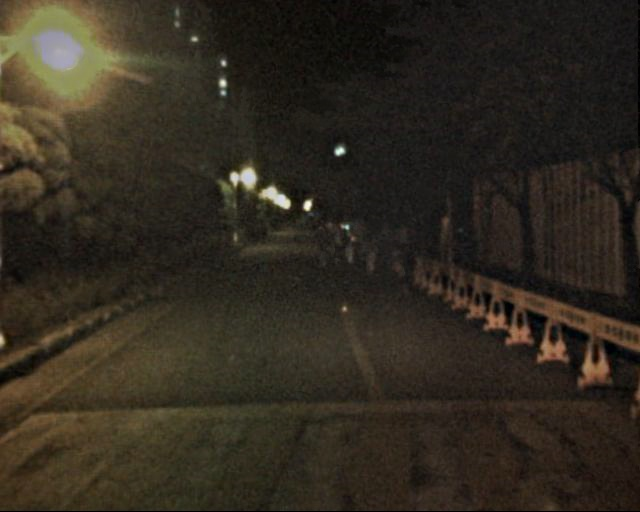person: (389, 228, 416, 293), (360, 228, 382, 281), (375, 221, 397, 274), (346, 216, 367, 268), (311, 220, 331, 269), (329, 222, 348, 269)
